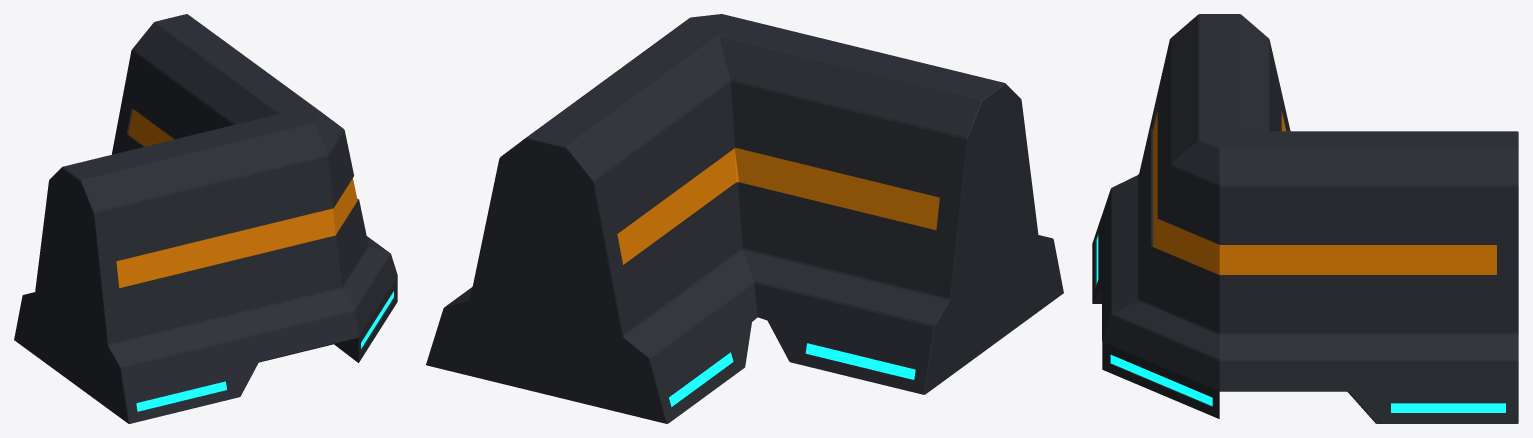
The model's file is SM_Corner_Barrier.fbx.
The picture shows the model from 3 angles, left to right: view 1: azimuth 30°, elevation 25°; view 2: azimuth 150°, elevation 25°; view 3: azimuth 270°, elevation 25°; orthographic projection. The views are drawn at different scales.
Visible parts, largest first — view 1: Cube.002; view 2: Cube.002; view 3: Cube.002.
Boxes of the visible parts, left/top/right/bottom form: Cube.002: left=14, top=14, right=397, bottom=423; Cube.002: left=426, top=14, right=1063, bottom=423; Cube.002: left=1092, top=14, right=1518, bottom=423.
Size of the model in its own units: 71.32 by 42.47 by 71.32.
